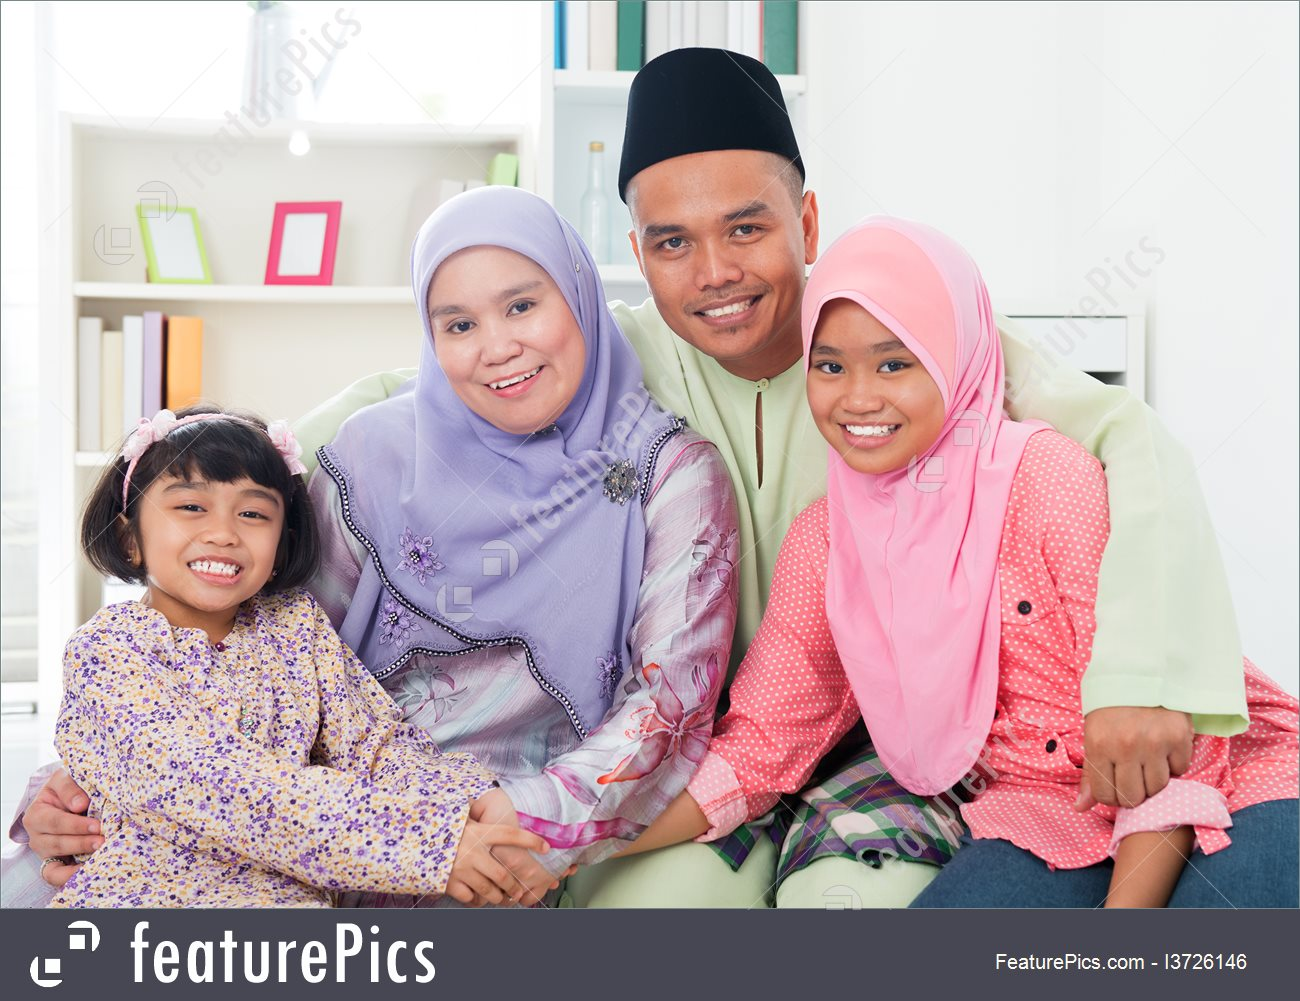smile: (647, 162, 798, 344), (439, 255, 590, 420), (807, 308, 949, 474), (159, 452, 273, 602)
